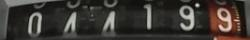digits: (62, 10, 78, 38), (178, 4, 195, 30), (216, 6, 232, 32), (101, 11, 117, 36), (27, 12, 42, 34), (142, 3, 153, 28)
